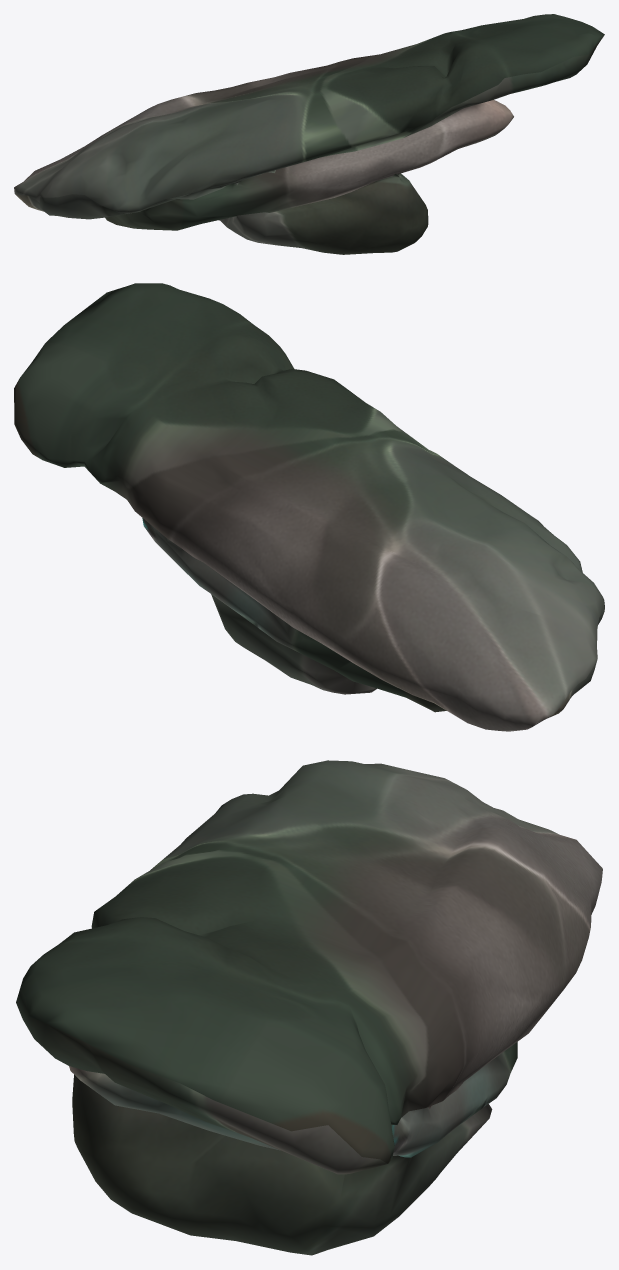
File: lowers.fbx
3 renders of one model, top to bottom at view 1: azimuth 30°, elevation 25°; view 2: azimuth 150°, elevation 25°; view 3: azimuth 270°, elevation 25°, orthographic. The views are drawn at different scales.
Visible parts, largest first — view 1: Big_5; view 2: Big_5; view 3: Big_5.
Part boxes in pixels (x1,y1,x2,y2): Big_5: [14, 14, 604, 254]; Big_5: [14, 283, 604, 731]; Big_5: [16, 760, 602, 1255].
Bounding box in the file's own units: 722 × 287 × 374.
1 material, 1 textured.
